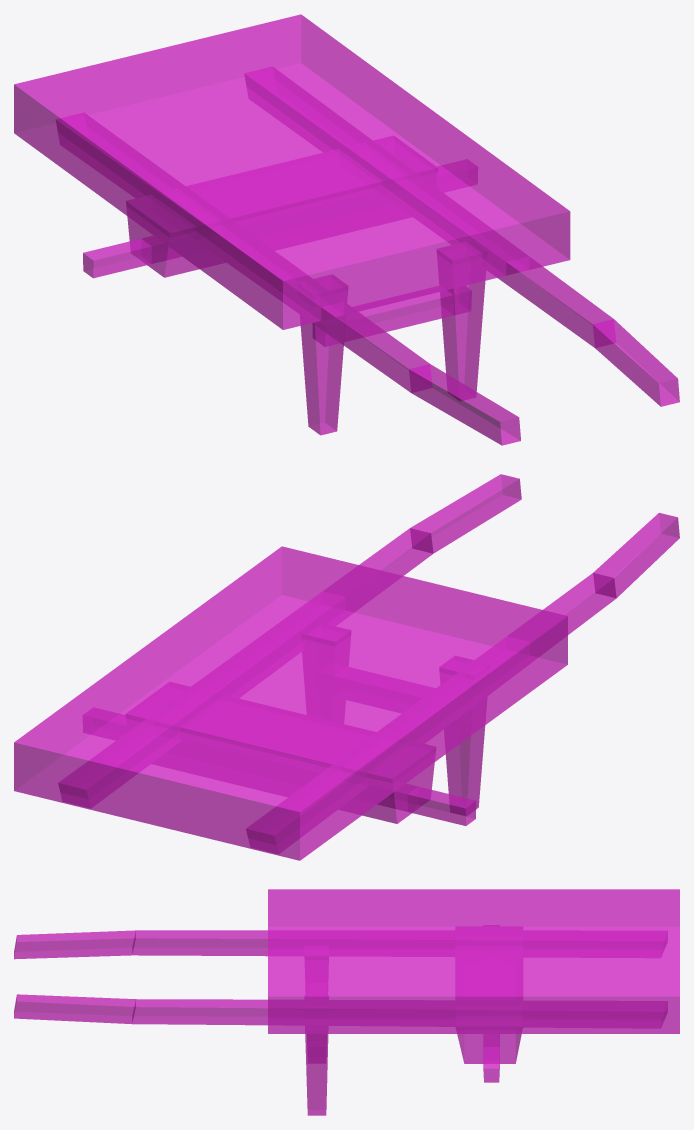
Rendered from SM_Veh_Cart_01_Collision.fbx.
3 views of the same model, one above another, from view 1: azimuth 30°, elevation 25°; view 2: azimuth 150°, elevation 25°; view 3: azimuth 270°, elevation 25° (orthographic). The views are drawn at different scales.
Parts seen in each view (by area): view 1: SM_Veh_Cart_01_Collision; view 2: SM_Veh_Cart_01_Collision; view 3: SM_Veh_Cart_01_Collision.
Part boxes in pixels (<box>): SM_Veh_Cart_01_Collision: <box>14,14,679,445</box>; SM_Veh_Cart_01_Collision: <box>14,474,679,860</box>; SM_Veh_Cart_01_Collision: <box>14,889,679,1115</box>.
Bounding box in the file's own units: 179 × 83.83 × 350.
